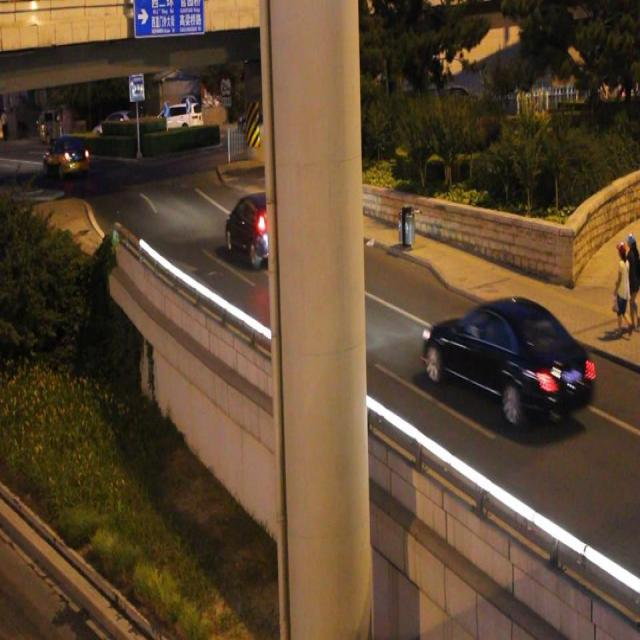car: (422, 296, 595, 422), (224, 190, 301, 270)
